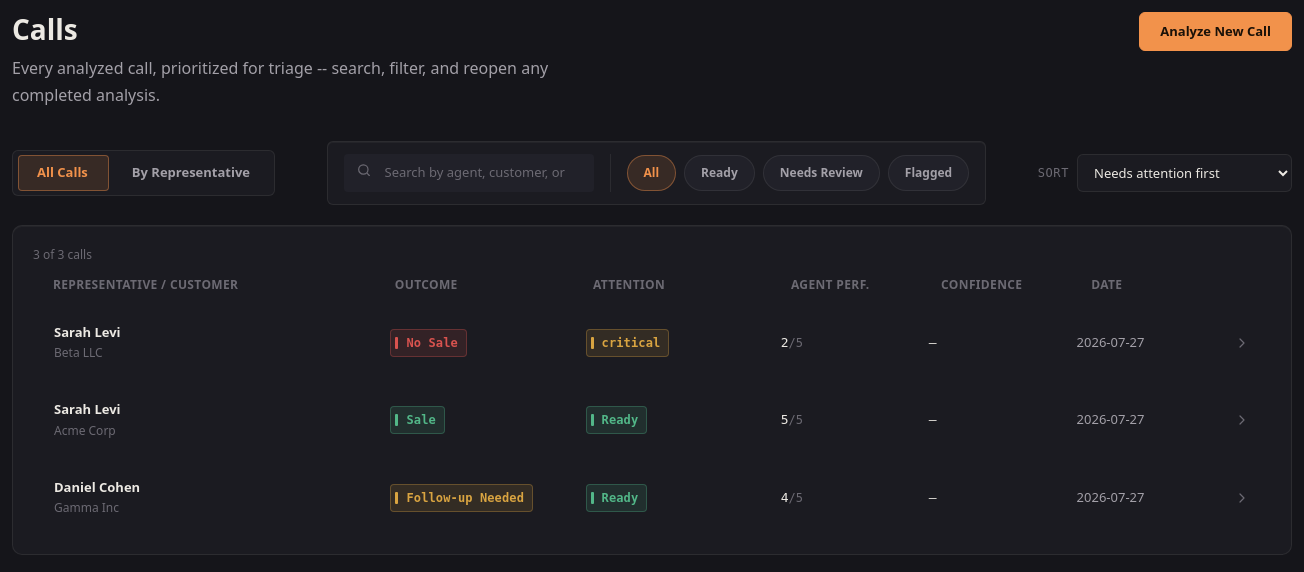
Test: Calls filtering and search › shows an empty result with a usable message when filters match nothing
This screenshot has width=1304, height=572.
Expected: the text "Acme Corp" is shown, 54,422 -> 116,439
Step 1. Type "nobody-matches-this" into the search field named "search calls" → (468, 173), box 344,154 -> 594,192
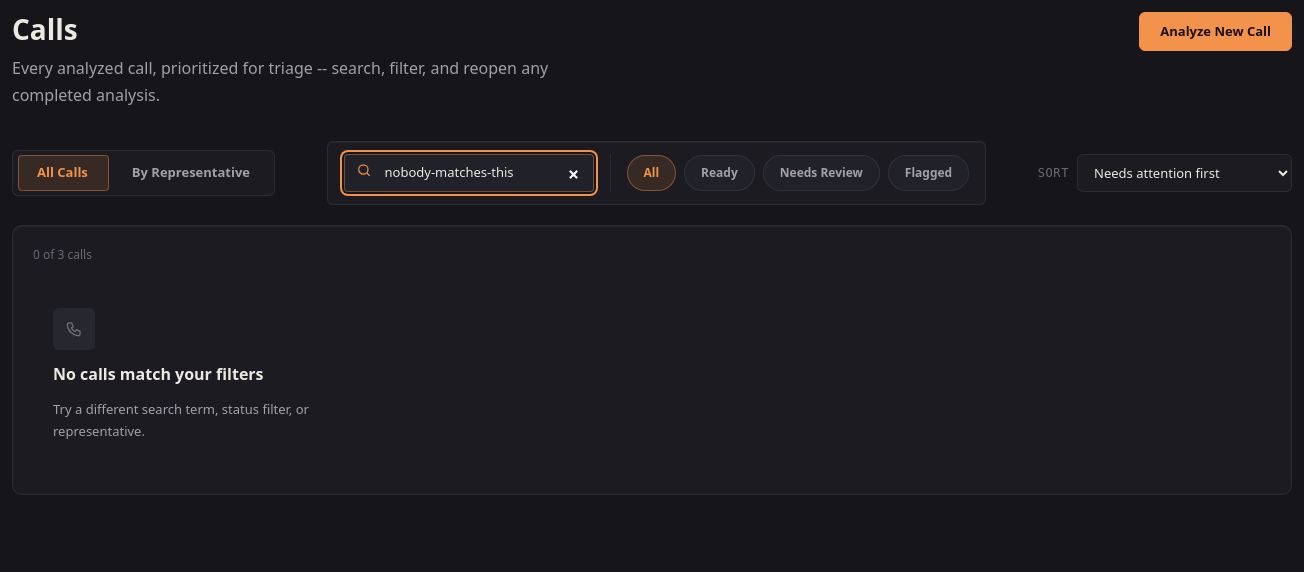
Expected: the text "No calls match your filters" is shown, 53,362 -> 264,386
